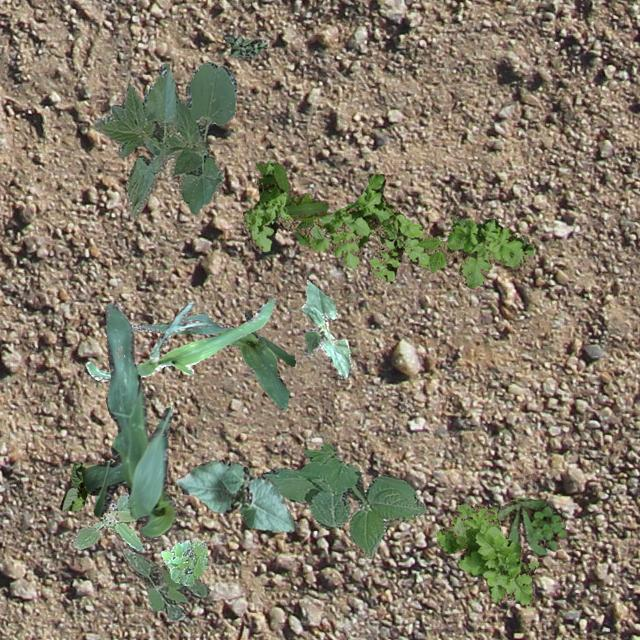crop: (82, 302, 176, 538), (93, 62, 235, 218), (84, 296, 274, 381), (130, 311, 294, 408), (174, 458, 296, 530), (300, 278, 350, 378), (58, 460, 86, 510)
weed: (241, 160, 534, 288), (260, 442, 426, 556), (434, 502, 538, 604), (255, 160, 333, 246), (122, 544, 210, 620), (494, 496, 566, 556), (72, 492, 144, 550), (160, 540, 207, 584), (222, 32, 266, 58)
